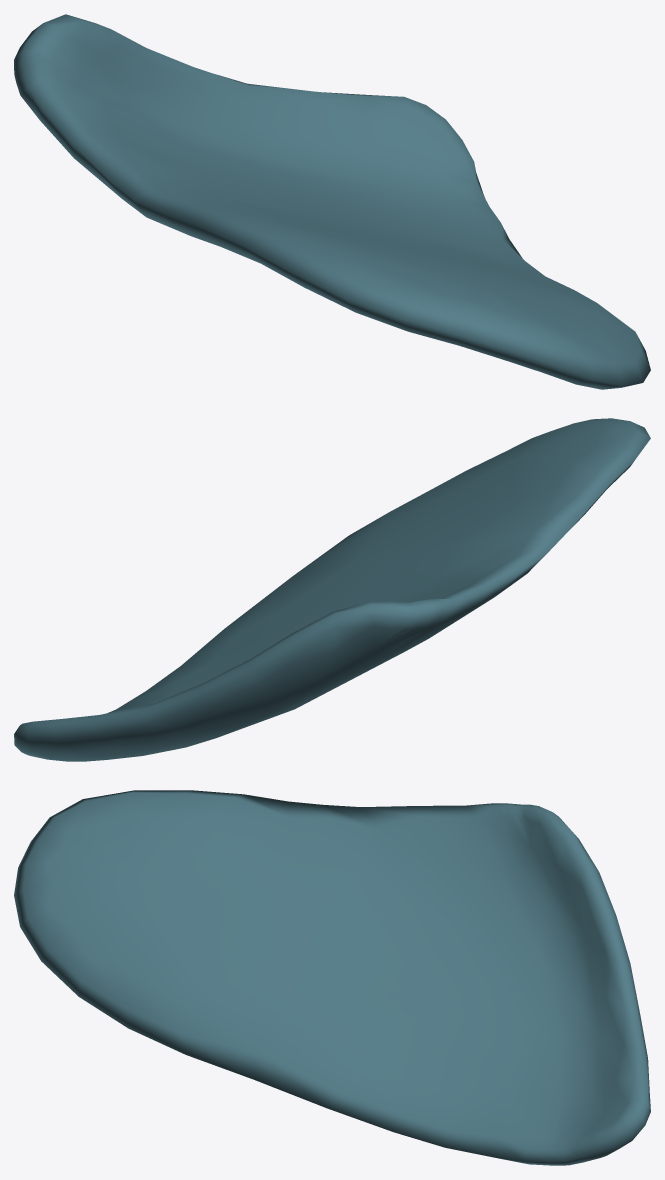
File: Long_plantar_ligament_1st_metatarsal_base_left.glb
3 renders of one model, top to bottom at view 1: azimuth 30°, elevation 25°; view 2: azimuth 150°, elevation 25°; view 3: azimuth 270°, elevation 25°, orthographic. The views are drawn at different scales.
Parts seen in each view (by area): view 1: Long_plantar_ligament_on_1st_metatarsal_base.l_Generated_Mes; view 2: Long_plantar_ligament_on_1st_metatarsal_base.l_Generated_Mes; view 3: Long_plantar_ligament_on_1st_metatarsal_base.l_Generated_Mes.
Boxes of the visible parts, x1,y1,x2,y2 form: Long_plantar_ligament_on_1st_metatarsal_base.l_Generated_Mes: (14,14,650,389); Long_plantar_ligament_on_1st_metatarsal_base.l_Generated_Mes: (14,418,650,761); Long_plantar_ligament_on_1st_metatarsal_base.l_Generated_Mes: (14,790,650,1165).
Size of the model in its own units: 0.00705 by 0.004 by 0.0107.
